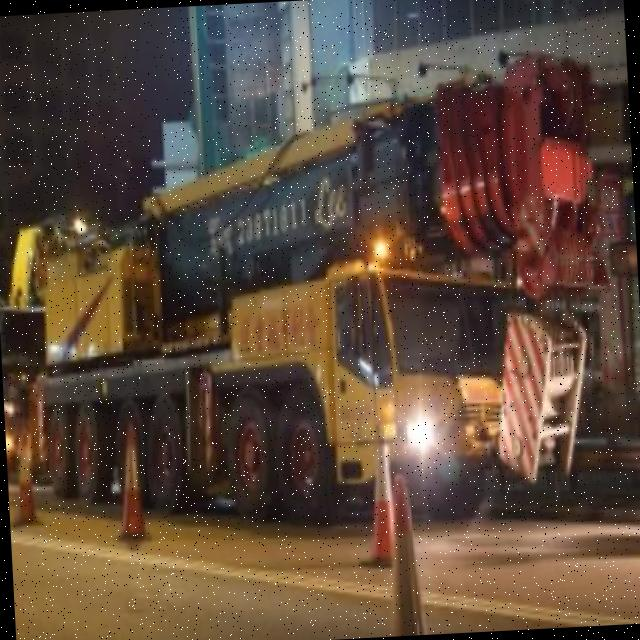Mobile Crane: (28, 53, 608, 543)
